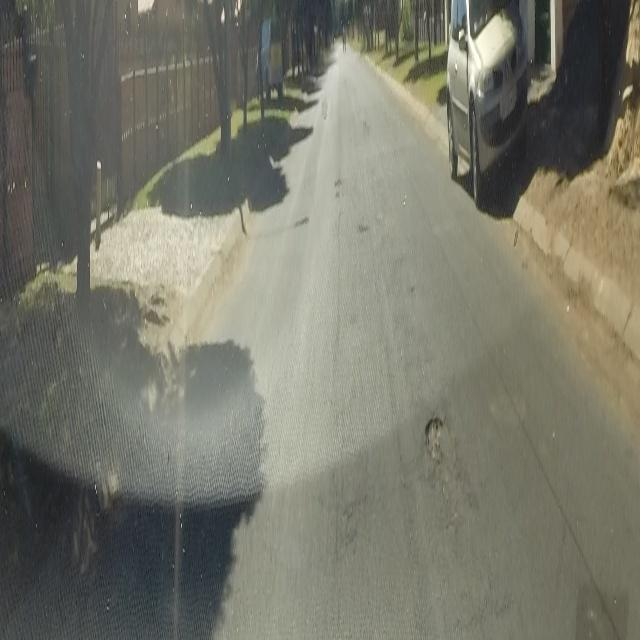pothole: (423, 410, 445, 452), (356, 218, 369, 239), (334, 174, 342, 187)
